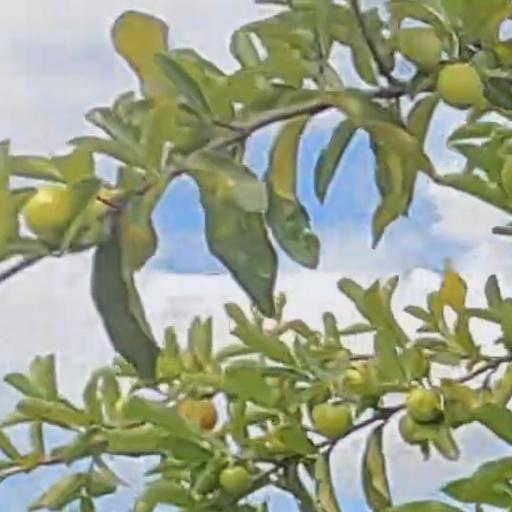acerola_verde: (440, 64, 482, 107), (181, 398, 215, 433), (315, 407, 351, 439), (409, 389, 441, 423), (219, 468, 251, 494)
